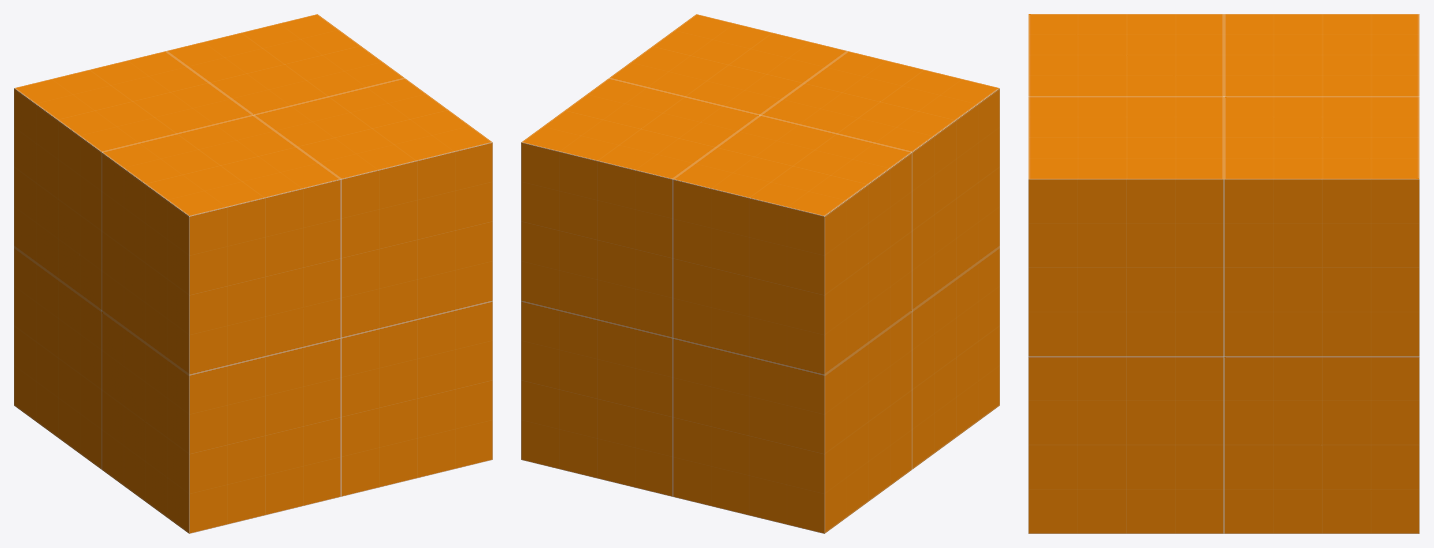
The model's file is DevGridmap.glb.
3 renders of one model, left to right at view 1: azimuth 30°, elevation 25°; view 2: azimuth 150°, elevation 25°; view 3: azimuth 270°, elevation 25°, orthographic. The views are drawn at different scales.
Parts seen in each view (by area): view 1: OrangeCube-col; view 2: OrangeCube-col; view 3: OrangeCube-col.
Part boxes in pixels (left/top/right/bottom): OrangeCube-col: left=14, top=14, right=492, bottom=533; OrangeCube-col: left=521, top=14, right=999, bottom=533; OrangeCube-col: left=1028, top=14, right=1419, bottom=533.
Bounding box in the file's own units: 2 × 2 × 2.
Materials: 6 (6 with a texture image).
